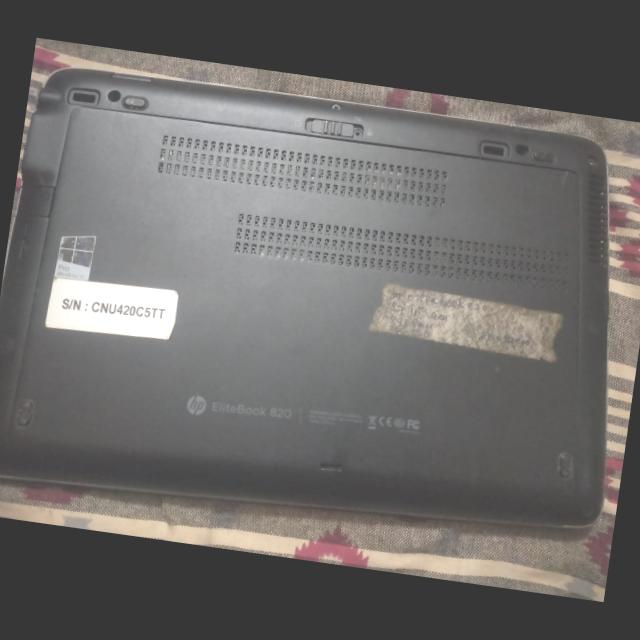laptop: (0, 59, 640, 564)
